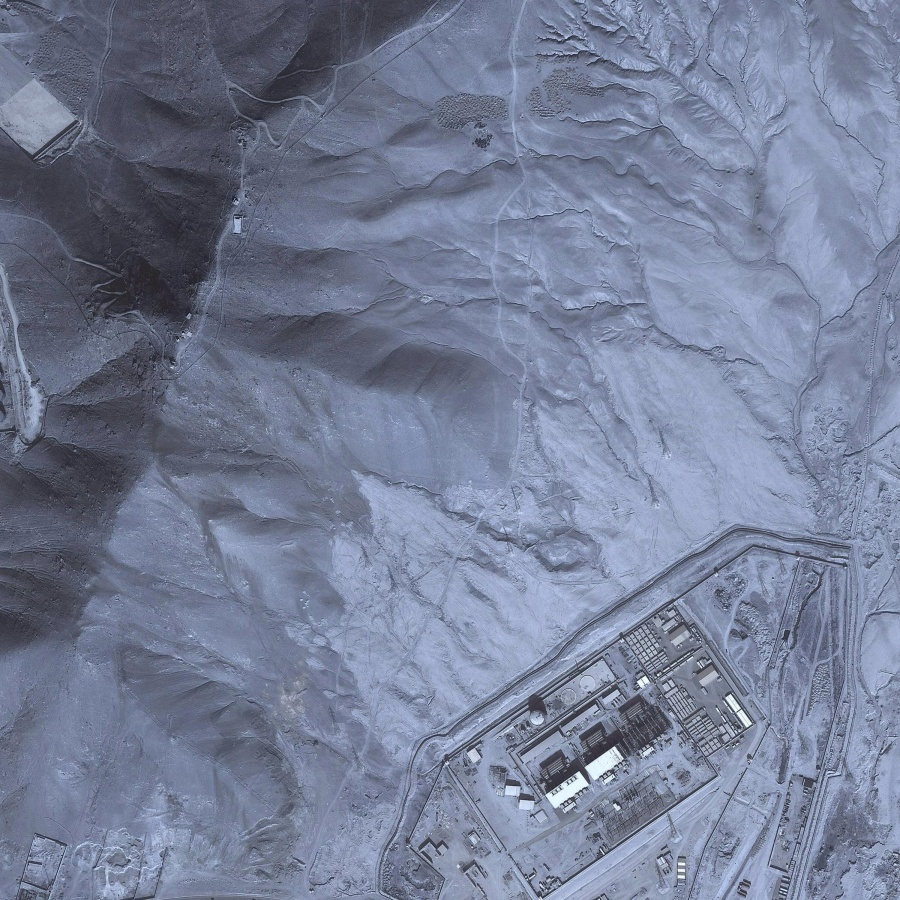PowerPlant: (502, 628, 752, 812)
